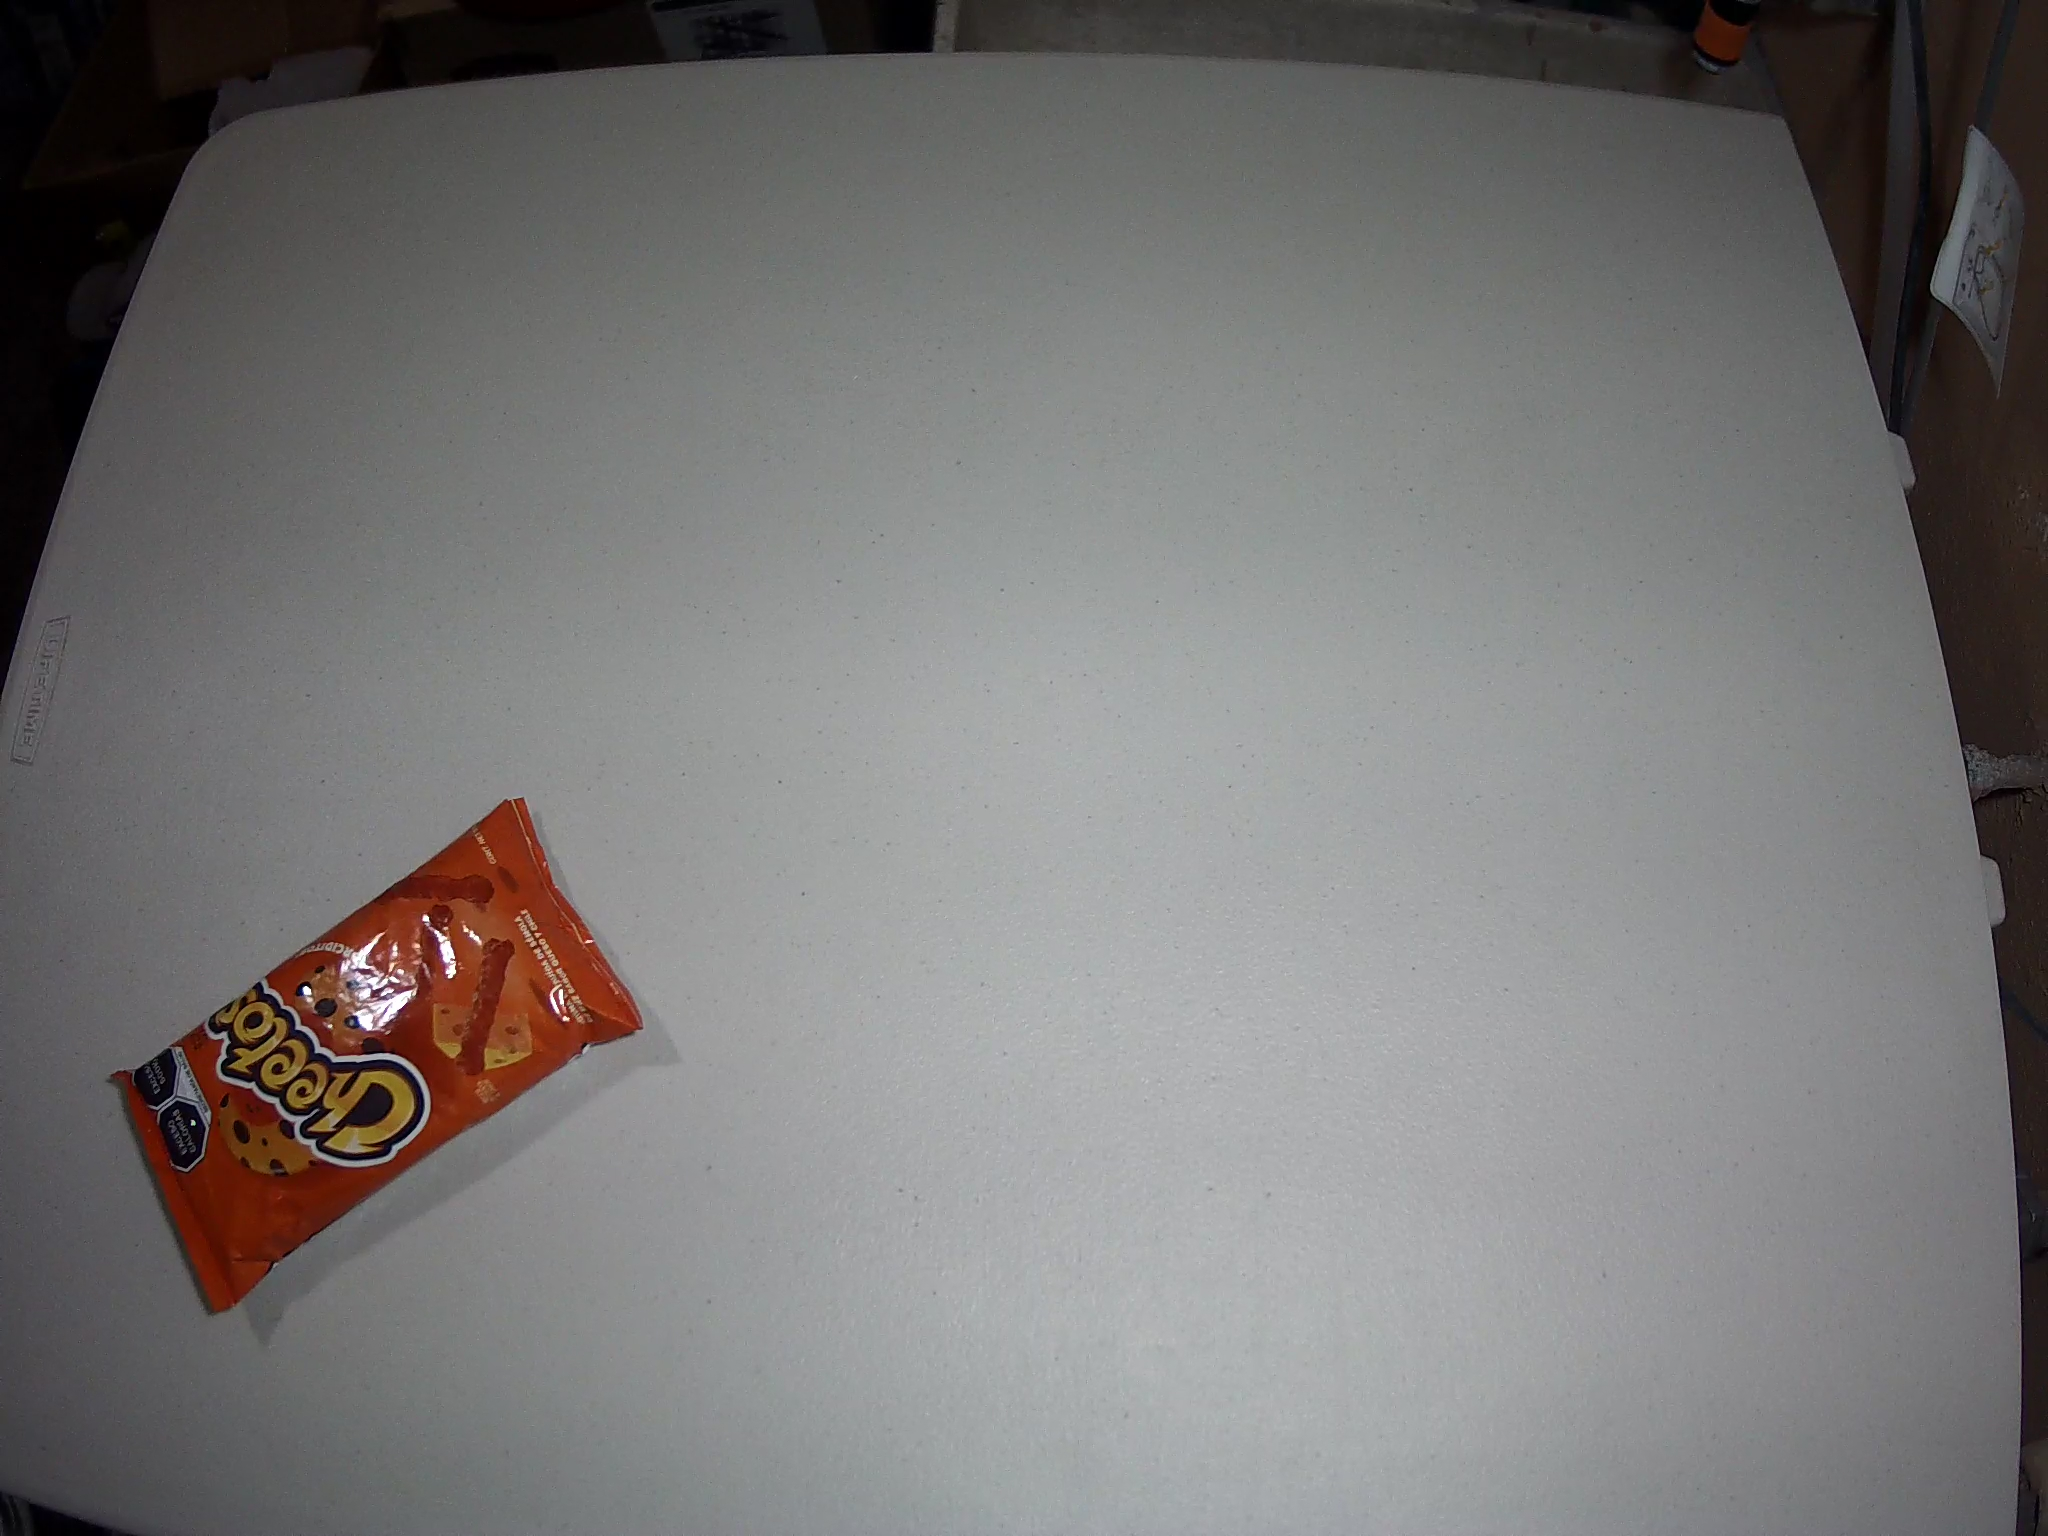CheetosTorciditos_55_F: (108, 799, 645, 1317)
